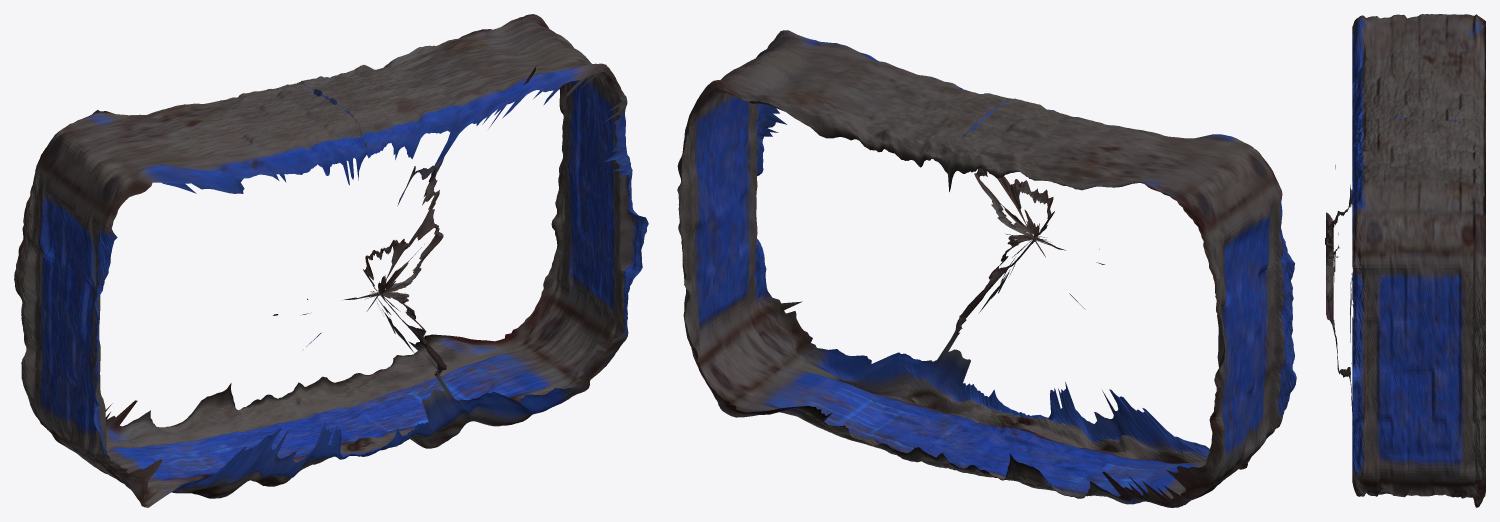
3 renders of one model, left to right at view 1: azimuth 30°, elevation 25°; view 2: azimuth 150°, elevation 25°; view 3: azimuth 270°, elevation 25°, orthographic. The views are drawn at different scales.
Parts seen in each view (by area): view 1: geometry_0; view 2: geometry_0; view 3: geometry_0.
Part boxes in pixels (x1,y1,x2,y2): geometry_0: (14, 14, 648, 507); geometry_0: (677, 30, 1296, 507); geometry_0: (1325, 14, 1485, 507).
Bounding box in the file's own units: 1.95 × 1.25 × 0.5519.
1 material, 1 textured.
